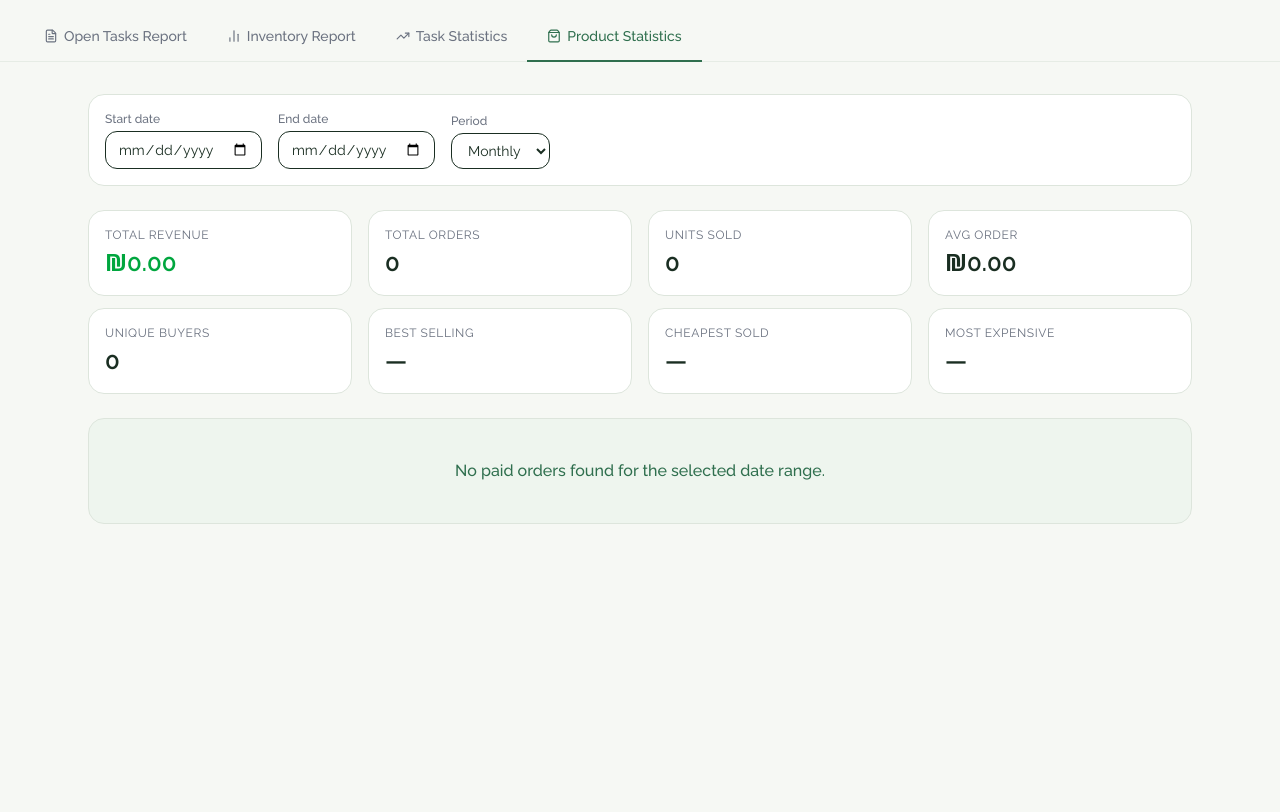
Product Statistics Report tab › date error is persistent until a valid range is entered
// Set an invalid range (start after end)
Type "2026-07-01" into the date field with test id "prod-filter-start-date" at [184, 150], box x1=105 y1=131 x2=262 y2=169
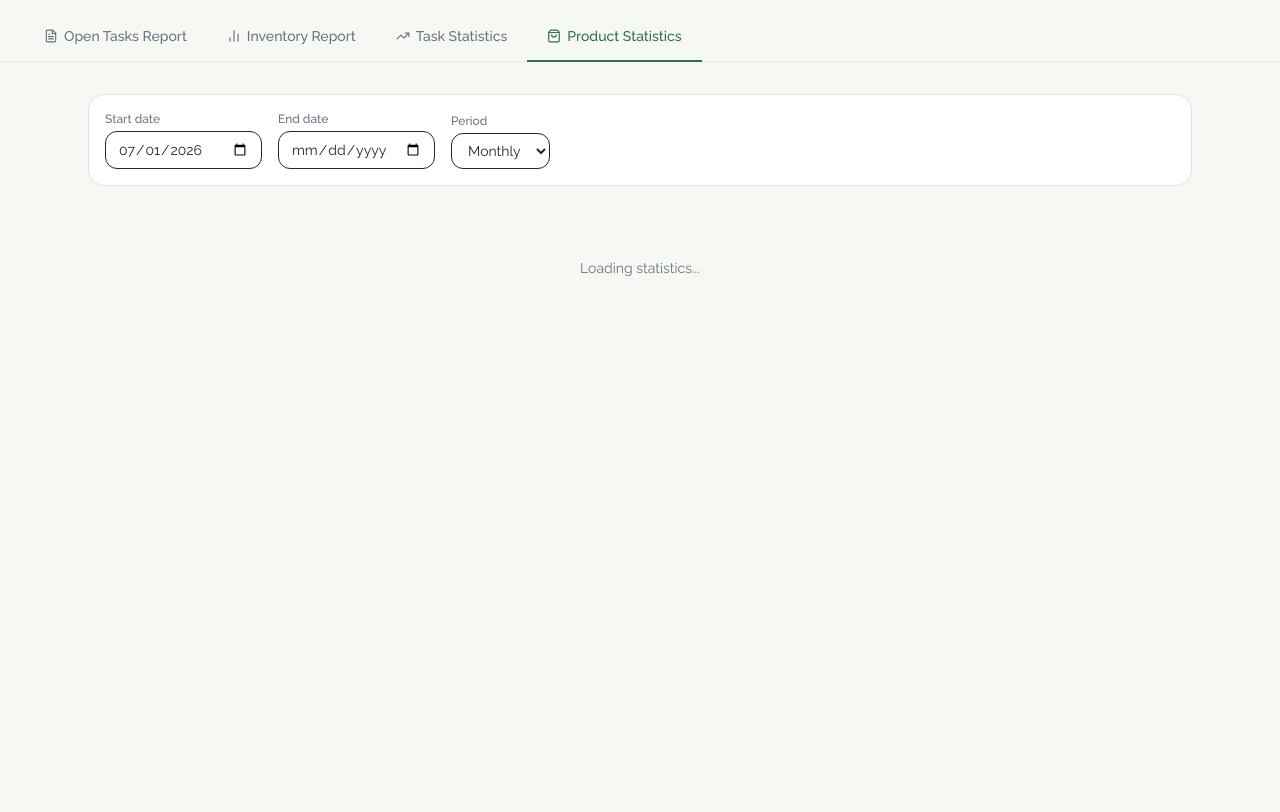
Type "2026-06-01" into the date field with test id "prod-filter-end-date" at [356, 150], box x1=278 y1=131 x2=435 y2=169
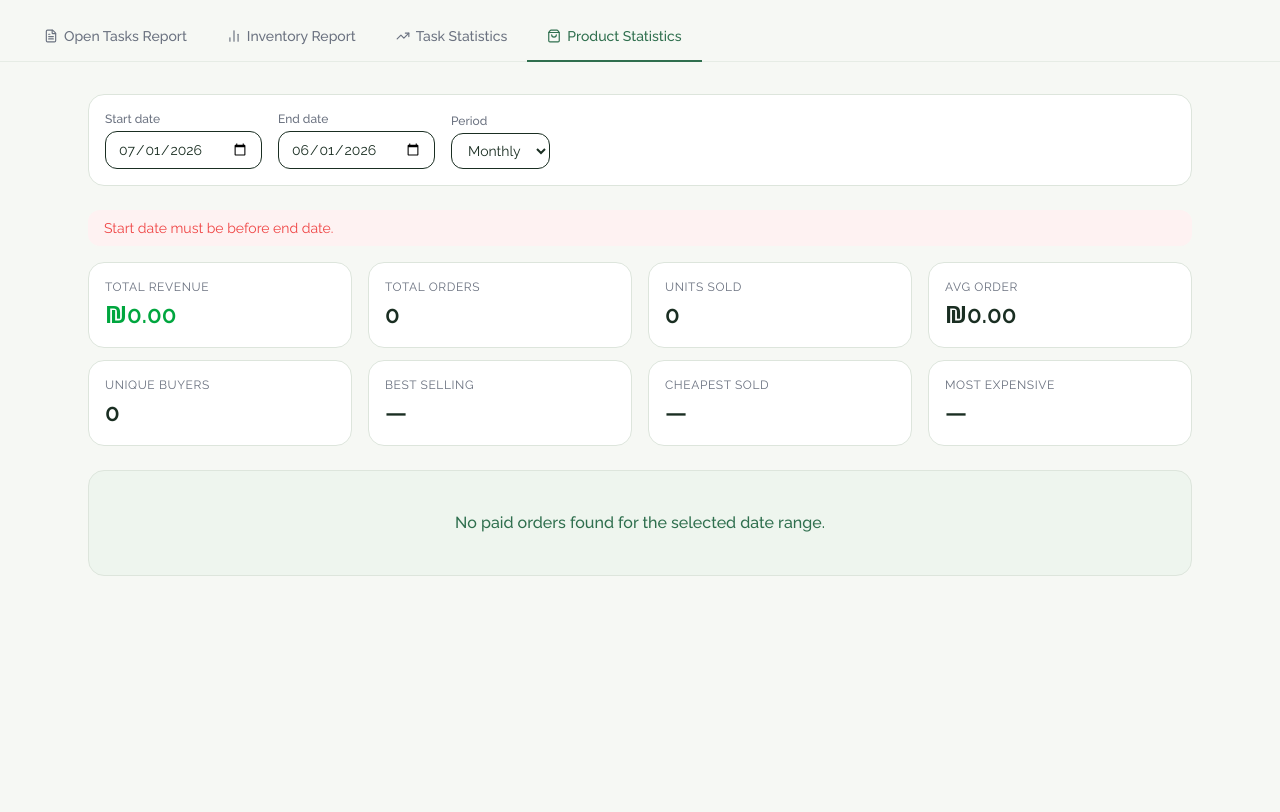
expect the text "Start date must be before end date." is shown: met, box x1=88 y1=210 x2=1192 y2=246
// Fix the range — error should disappear
Type "2026-08-01" into the date field with test id "prod-filter-end-date" at [356, 150], box x1=278 y1=131 x2=435 y2=169
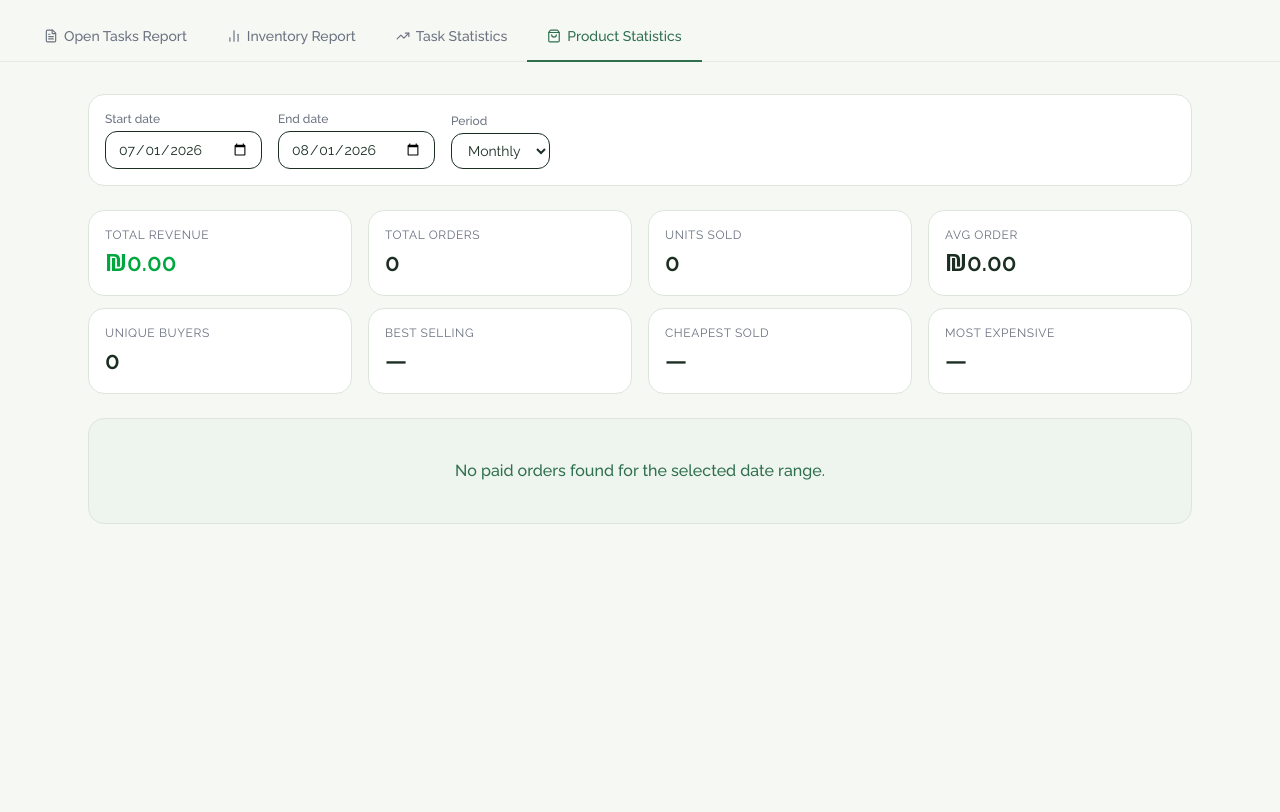
expect the text with test id "prod-date-error" is gone: met
